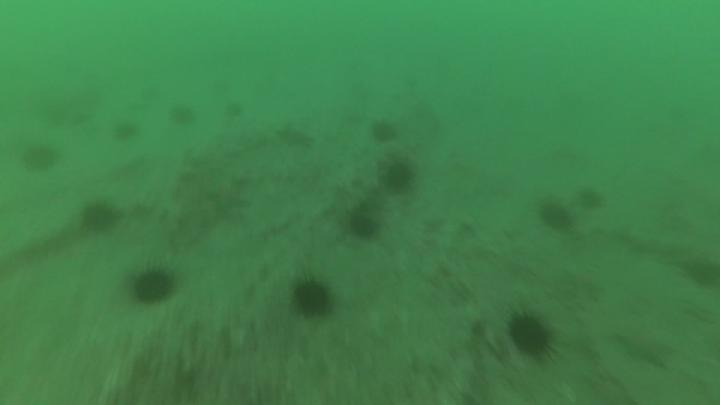echinus: (513, 317, 550, 358), (295, 283, 333, 319), (137, 270, 173, 304), (83, 206, 117, 234), (541, 203, 573, 231), (385, 167, 414, 194), (579, 187, 606, 212), (351, 215, 377, 238), (374, 122, 398, 144)
starfish: (616, 327, 676, 366), (277, 128, 317, 152)
